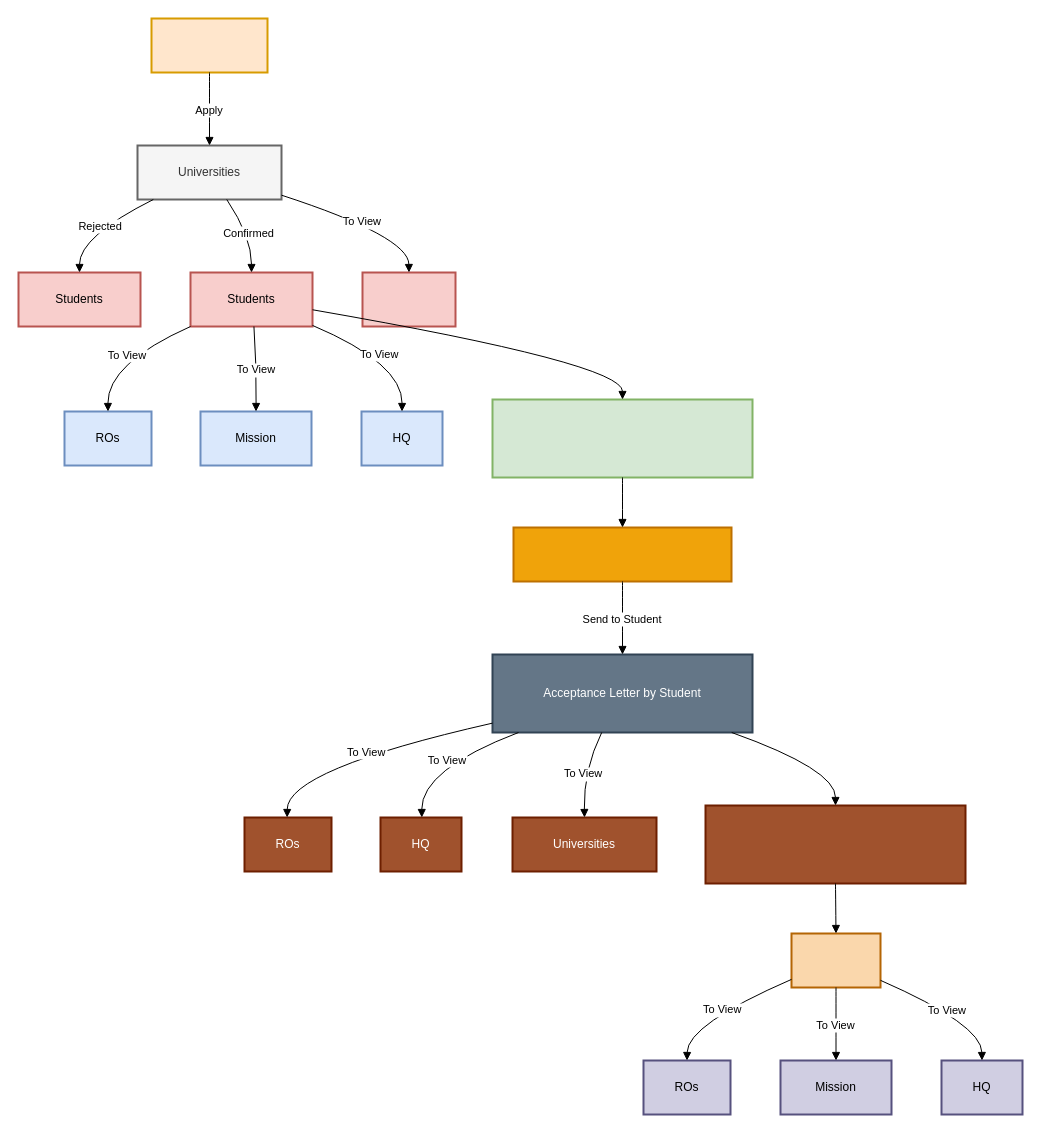
Some shapes in this 1040 by 1132 pixel diagram are drawn without their labels. The box of each missing label's shape, as (x1, y1, x2, y2) in pixels:
Allocate Scholarship and University: (491, 398, 753, 478)
Generate Offer Letter: (512, 526, 732, 582)
ICCR: (361, 271, 456, 327)
Student: (150, 17, 268, 73)
Student to Provide Travel Details: (704, 804, 966, 884)
Visa: (790, 932, 881, 988)
